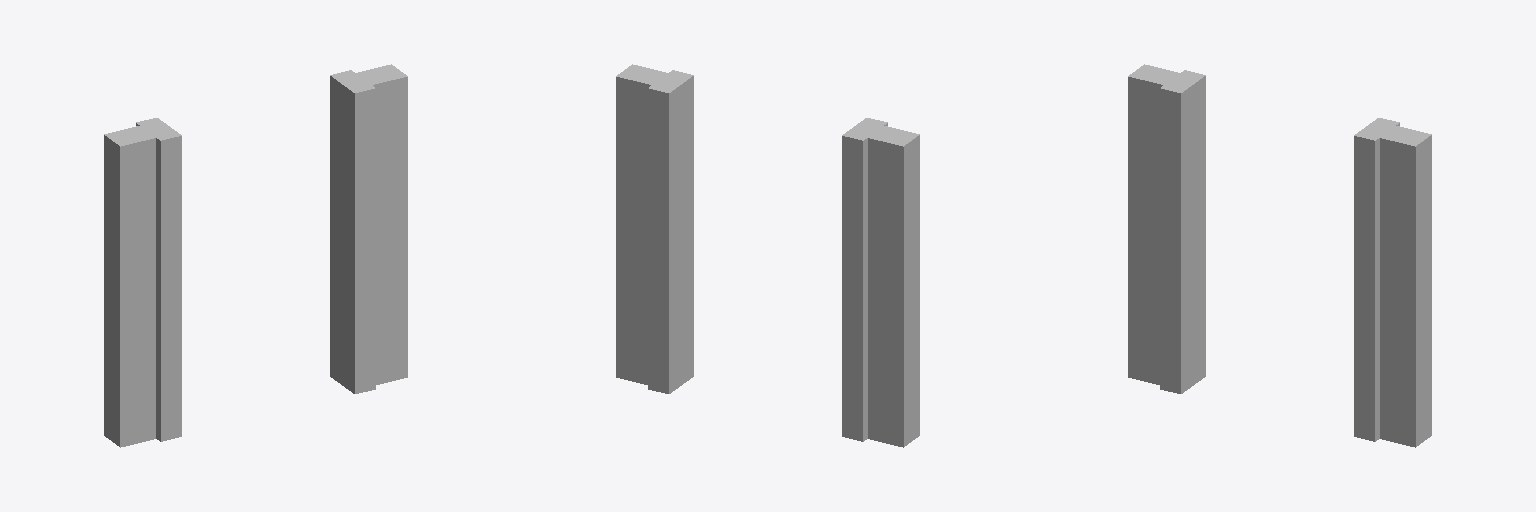
Rendered from BeigeDoorFrame.obj.
The picture shows the model from 3 angles: view 1: azimuth 30°, elevation 25°; view 2: azimuth 150°, elevation 25°; view 3: azimuth 330°, elevation 25°; orthographic projection.
Visible parts, largest first — view 1: object 1; view 2: object 1; view 3: object 1.
Boxes of the visible parts, <box> form: object 1: <box>104,64,407,447</box>; object 1: <box>616,64,919,447</box>; object 1: <box>1128,64,1431,447</box>.
Size of the model in its own units: 4 by 4 by 0.6.